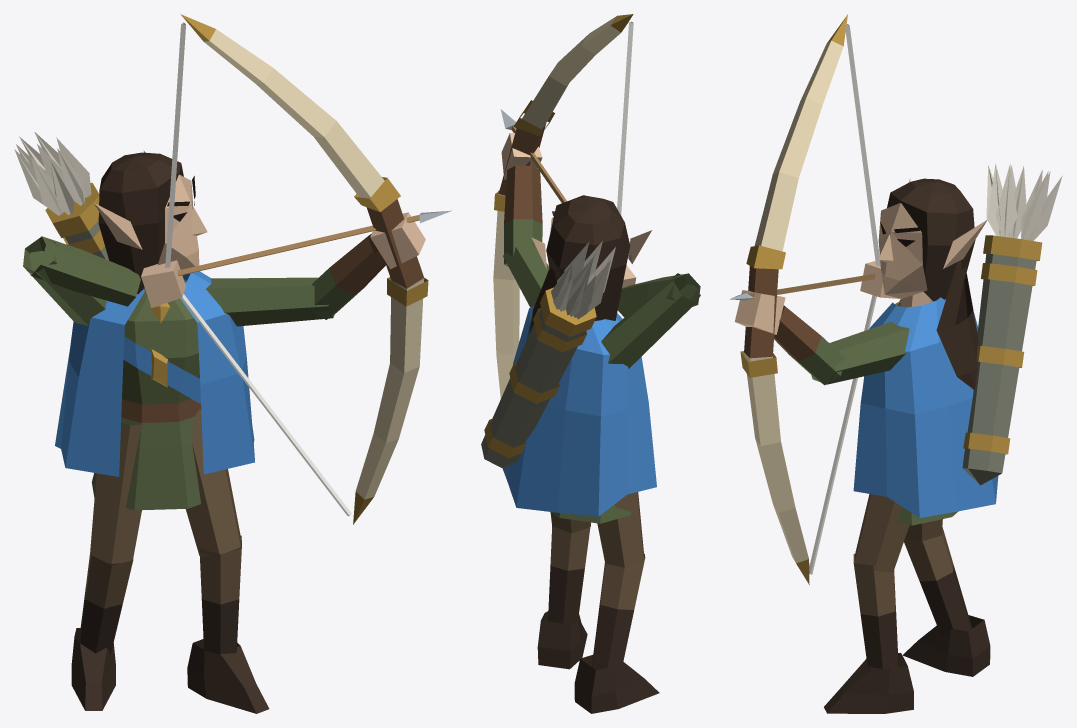
File: legolas-3.glb
3 renders of one model, left to right at view 1: azimuth 30°, elevation 25°; view 2: azimuth 150°, elevation 25°; view 3: azimuth 270°, elevation 25°, orthographic. The views are drawn at different scales.
Visible parts, largest first — view 1: legolas-3; view 2: legolas-3; view 3: legolas-3.
Part boxes in pixels (x1,y1,x2,y2): legolas-3: (14,14,451,713); legolas-3: (481,14,700,713); legolas-3: (730,14,1062,713).
Size of the model in its own units: 0.943 by 1.97 by 0.8992.
